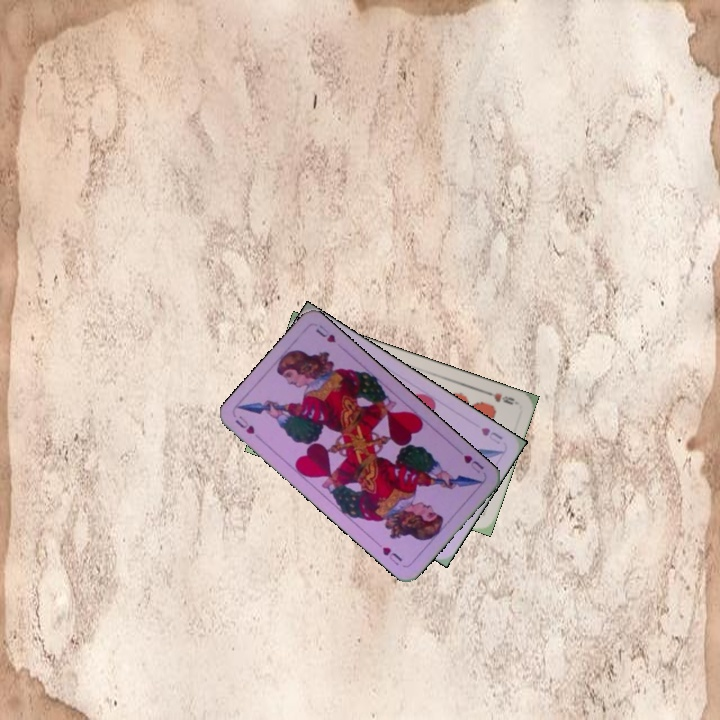H9: (480, 387, 520, 407)
HU: (459, 451, 487, 476), (231, 411, 257, 437), (477, 423, 505, 447)
